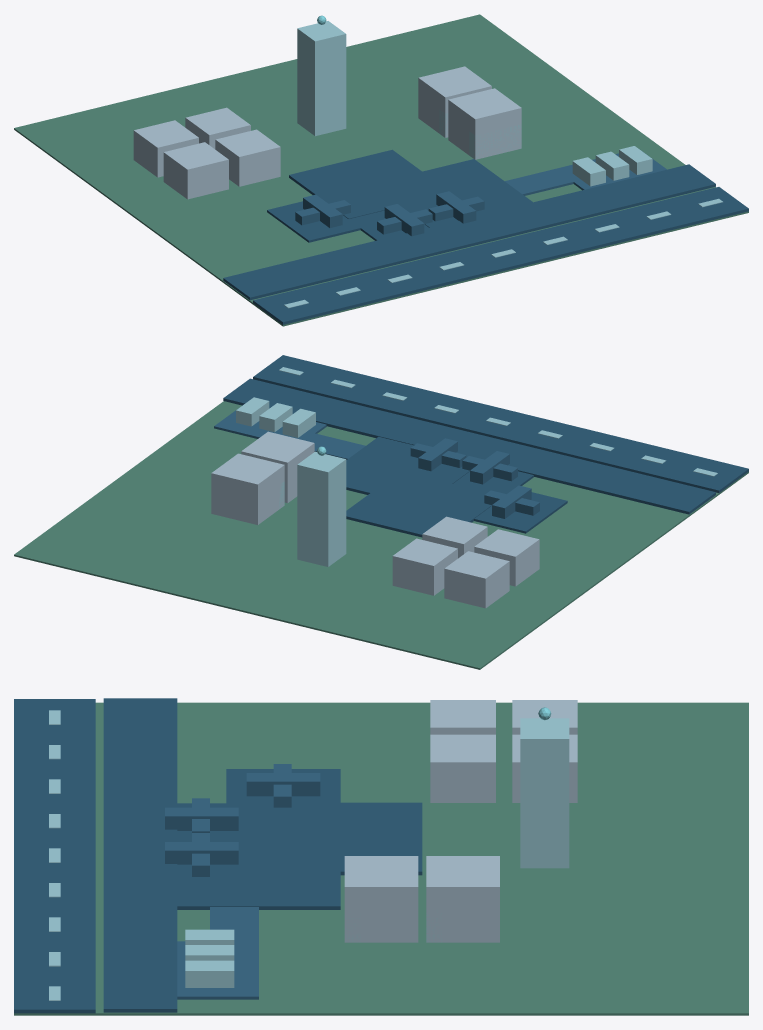
The model's file is stage_15.glb.
The picture shows the model from 3 angles, top to bottom: view 1: azimuth 30°, elevation 25°; view 2: azimuth 150°, elevation 25°; view 3: azimuth 270°, elevation 25°; orthographic projection. The views are drawn at different scales.
Parts seen in each view (by area): view 1: geometry_0; view 2: geometry_0; view 3: geometry_0.
Boxes of the visible parts, x1,y1,x2,y2 form: geometry_0: [14, 14, 748, 326]; geometry_0: [14, 355, 748, 669]; geometry_0: [14, 698, 748, 1015].
Size of the model in its own units: 9 by 2.06 by 9.
